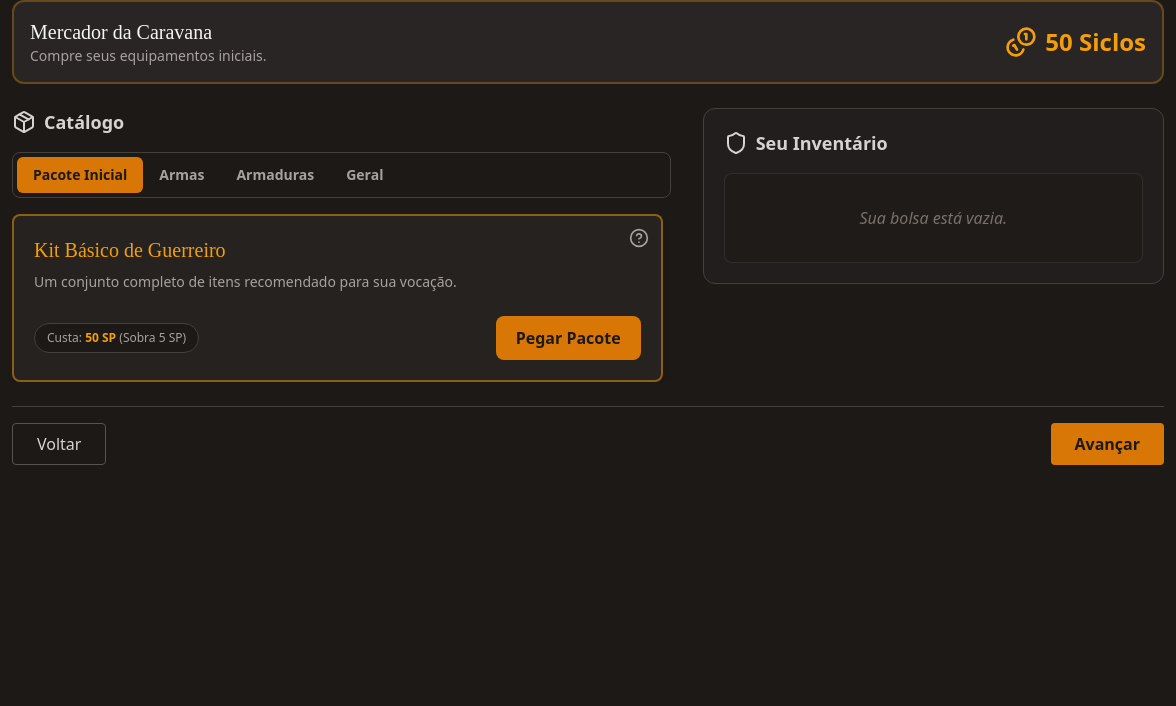
moedas fracionadas › o preço do item continua exato no botão de compra
What coordinates should you click on to do the following:
click the button "Geral"
I would click on:
 (365, 175)
Its box is [330,157,399,193].
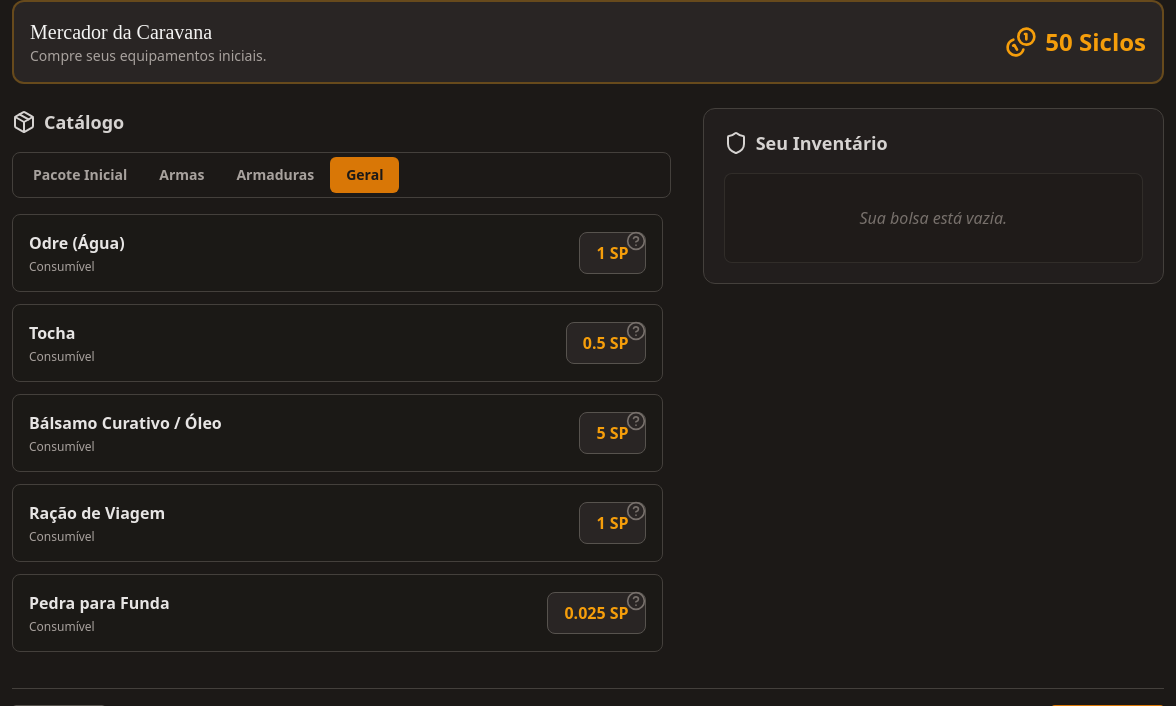
Expected: the button "0.025 SP" is shown, [548,592,646,634]
